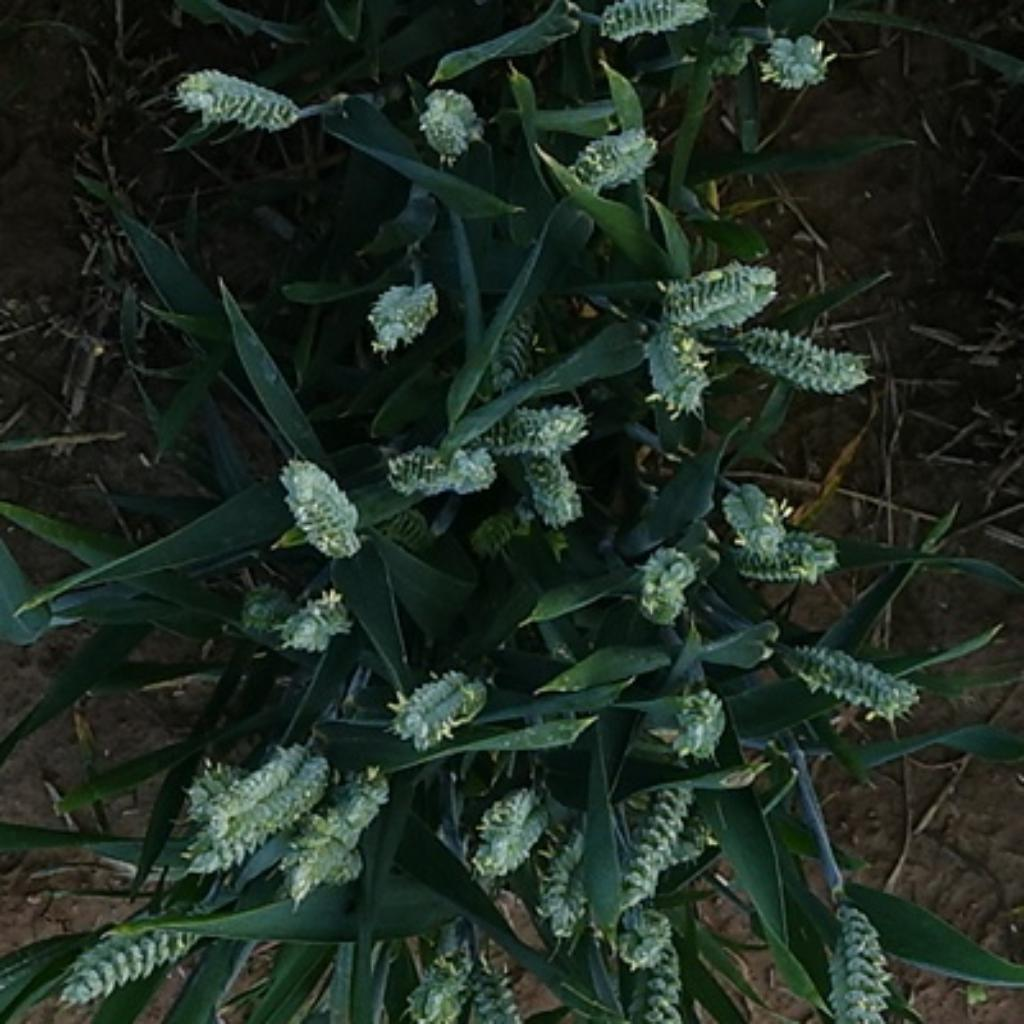0-0: (174, 727, 348, 878), (194, 765, 360, 888), (271, 752, 401, 906), (35, 901, 215, 1011), (593, 773, 721, 903), (778, 629, 926, 719), (724, 317, 870, 396), (166, 56, 309, 133), (814, 898, 901, 1024), (268, 445, 363, 552), (373, 427, 506, 499), (655, 256, 783, 330), (386, 657, 491, 747), (463, 778, 552, 883), (560, 115, 665, 197), (706, 463, 791, 563), (624, 532, 706, 627), (256, 581, 358, 655), (634, 314, 711, 412), (593, 896, 680, 980), (360, 268, 448, 350), (714, 537, 844, 591), (486, 396, 596, 458), (535, 826, 596, 936), (475, 303, 546, 396), (407, 76, 486, 156), (514, 440, 583, 527), (665, 678, 732, 760), (593, 0, 716, 43), (634, 944, 695, 1024), (760, 25, 832, 89), (472, 944, 529, 1022), (403, 961, 467, 1024), (696, 25, 752, 81), (468, 504, 527, 552)
